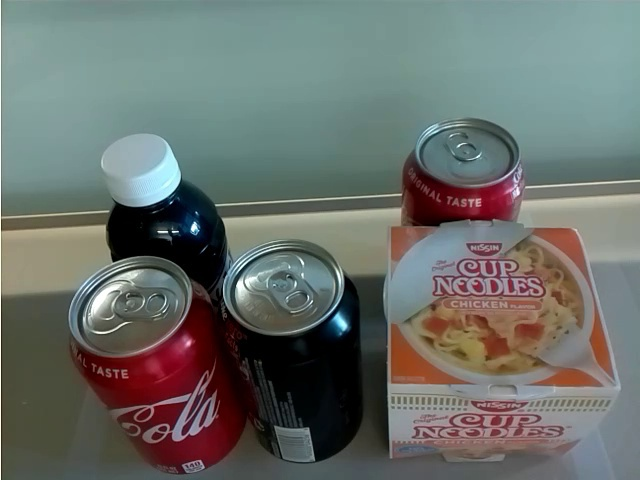cocacola: (64, 254, 248, 479), (400, 119, 528, 222)
cocacola-zero: (220, 238, 366, 467)
juice: (96, 131, 230, 287)
noodles: (380, 219, 622, 469)
